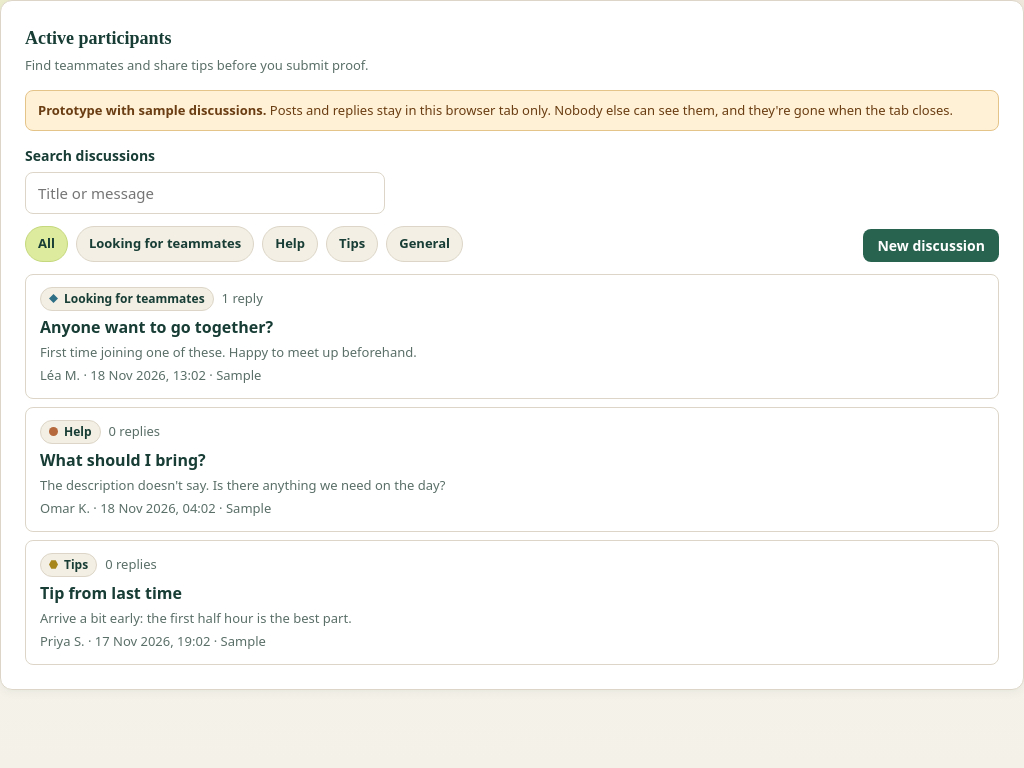
Test: Quest discussion prototype › searches and filters by category
Click the button "Tips". click: (352, 244)
box: [326, 226, 378, 262]
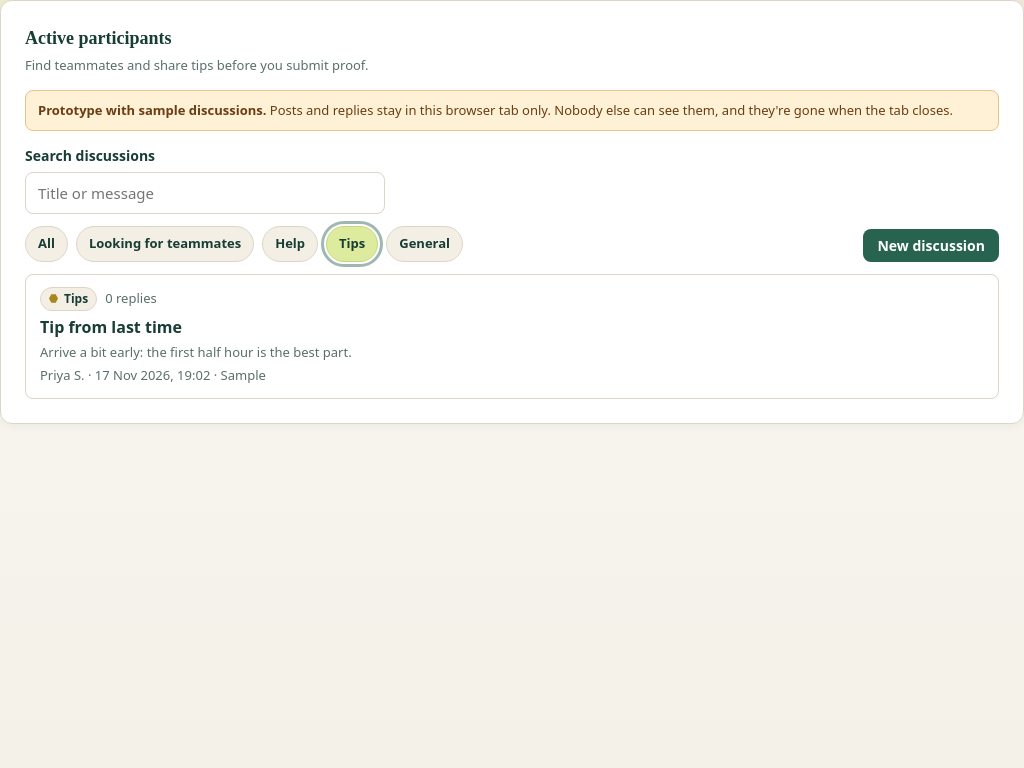
Click the button "All". click: (46, 244)
box: [25, 226, 68, 262]
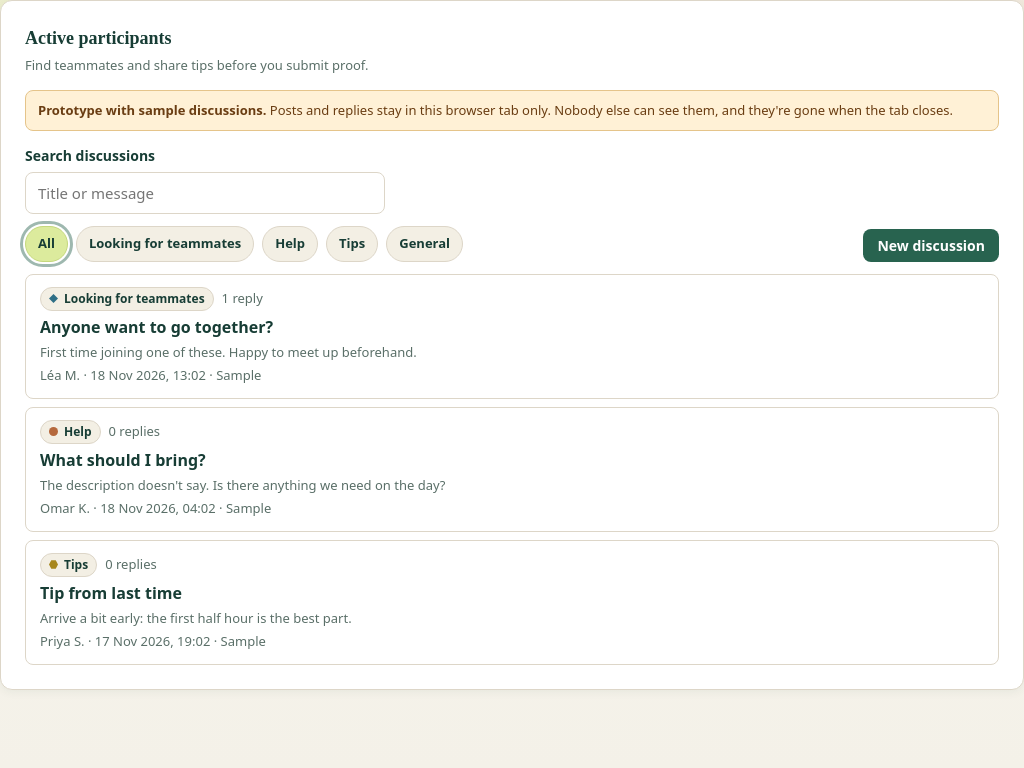
Type "bring" into the search field labelled "Search discussions". click: (205, 193)
box: [25, 172, 385, 214]
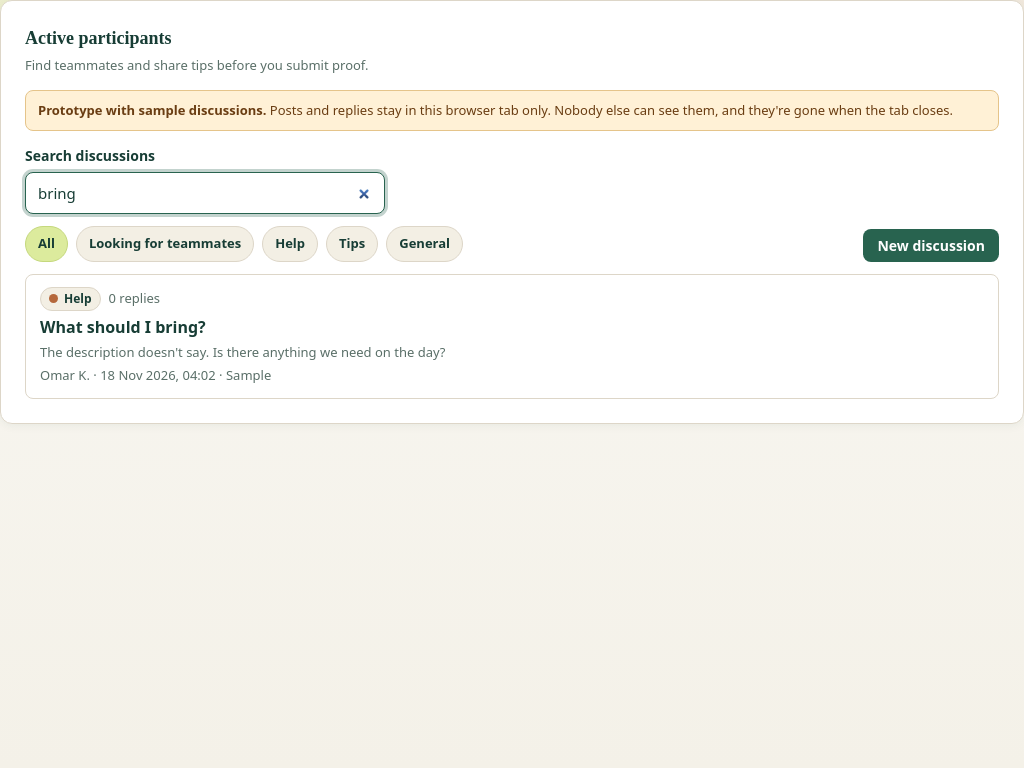
Type "zzz" into the search field labelled "Search discussions". click: (205, 193)
box: [25, 172, 385, 214]
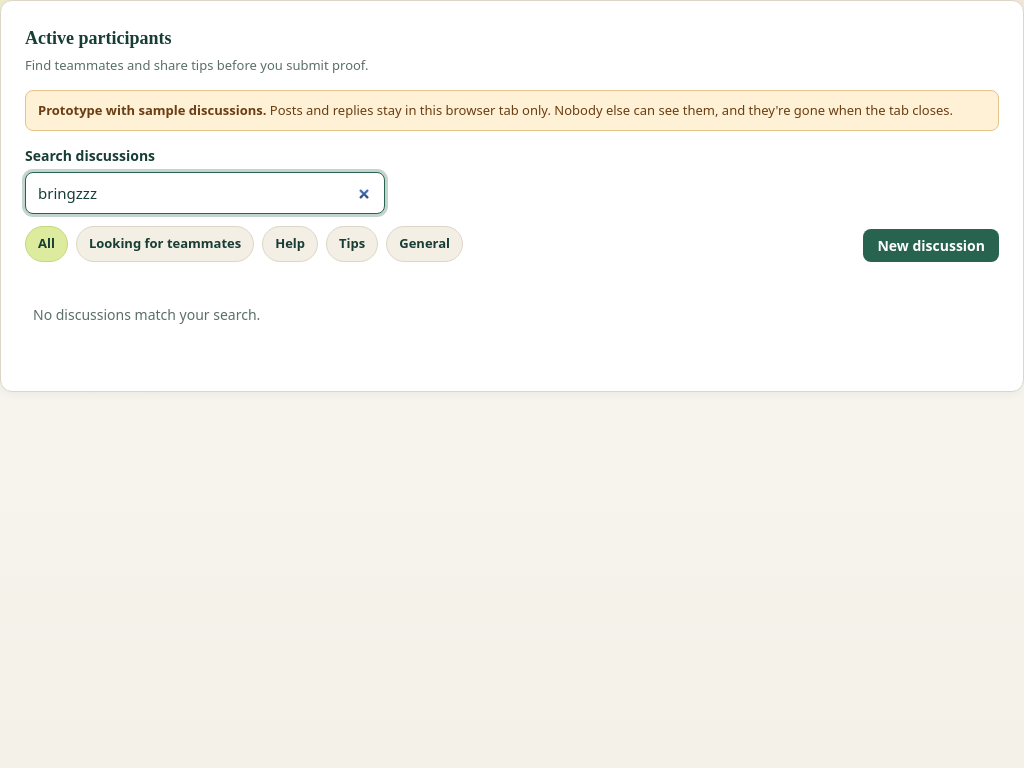
Check: the text "No discussions match your search." is shown, box [33, 304, 260, 324]
